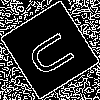U: (25, 25, 84, 80)
